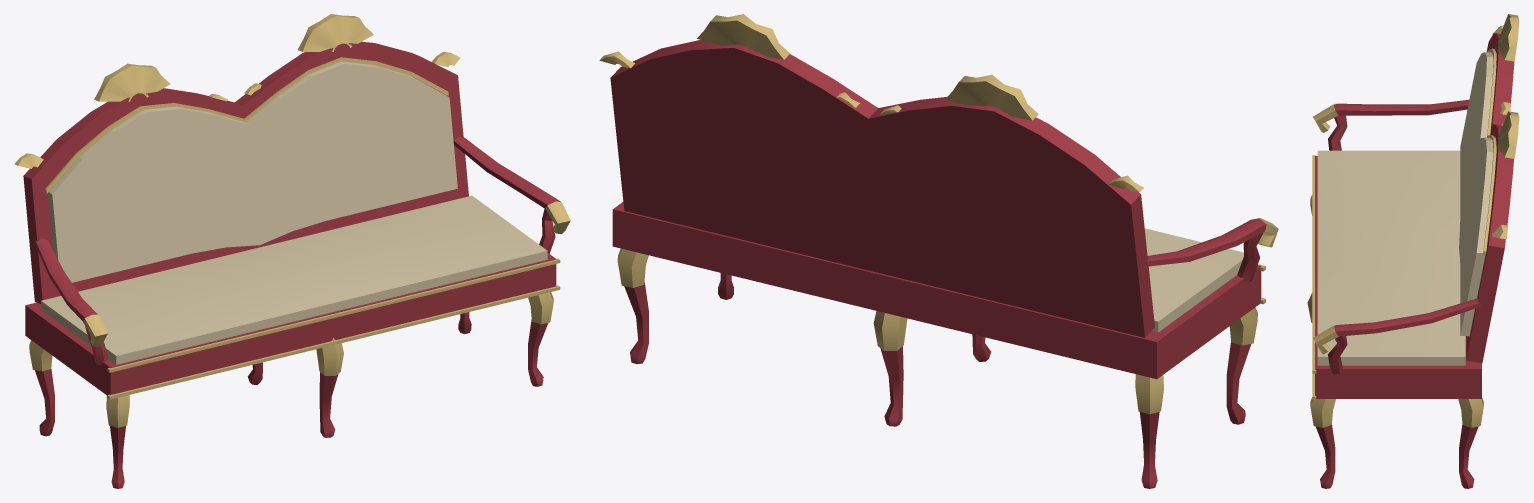
File: sofa.fbx
3 renders of one model, left to right at view 1: azimuth 30°, elevation 25°; view 2: azimuth 150°, elevation 25°; view 3: azimuth 270°, elevation 25°, orthographic. The views are drawn at different scales.
Visible parts, largest first — view 1: respaldo_tapiz, asiento_tapiz, respaldo_marco, asiento_bastidor, moldura_sup, moldura_inf, respaldo_moldura, concha_L, concha_R, brazo_posabrazos_R, brazo_posabrazos_L, pata_FC (+6 smaller); view 2: respaldo_marco, asiento_bastidor, asiento_tapiz, concha_L, concha_R, brazo_posabrazos_L, pata_BC, pata_FL, pata_BR, pata_BL, pata_BC_acanto, pata_BL_acanto (+2 smaller); view 3: asiento_tapiz, respaldo_tapiz, asiento_bastidor, respaldo_marco, brazo_posabrazos_R, brazo_posabrazos_L, respaldo_moldura, pata_FR, concha_R, concha_L, pata_BR, moldura_sup (+6 smaller).
Part boxes in pixels (x1,y1,x2,y2): respaldo_tapiz: [47, 61, 457, 282]; asiento_tapiz: [41, 195, 547, 364]; respaldo_marco: [23, 41, 468, 303]; asiento_bastidor: [25, 253, 556, 395]; moldura_sup: [107, 258, 560, 372]; moldura_inf: [107, 285, 560, 399]; respaldo_moldura: [45, 57, 448, 194]; concha_L: [94, 63, 170, 101]; concha_R: [297, 14, 373, 51]; brazo_posabrazos_R: [453, 137, 560, 208]; brazo_posabrazos_L: [35, 238, 97, 321]; pata_FC: [319, 372, 338, 437]; respaldo_marco: [610, 40, 1154, 337]; asiento_bastidor: [612, 202, 1261, 379]; asiento_tapiz: [1144, 228, 1243, 332]; concha_L: [945, 74, 1038, 120]; concha_R: [697, 14, 789, 59]; brazo_posabrazos_L: [1146, 218, 1267, 266]; pata_BC: [880, 346, 903, 426]; pata_FL: [1226, 342, 1251, 424]; pata_BR: [624, 282, 648, 364]; pata_BL: [1139, 412, 1159, 488]; pata_BC_acanto: [873, 311, 907, 350]; pata_BL_acanto: [1135, 374, 1163, 414]; asiento_tapiz: [1317, 150, 1465, 365]; respaldo_tapiz: [1459, 52, 1493, 336]; asiento_bastidor: [1315, 156, 1481, 398]; respaldo_marco: [1466, 33, 1514, 363]; brazo_posabrazos_R: [1334, 298, 1480, 336]; brazo_posabrazos_L: [1334, 99, 1469, 115]; respaldo_moldura: [1483, 48, 1496, 255]; pata_FR: [1315, 424, 1335, 488]; concha_R: [1497, 111, 1519, 158]; concha_L: [1497, 14, 1519, 61]; pata_BR: [1459, 424, 1478, 488]; moldura_sup: [1312, 155, 1316, 373].
Size of the model in its own units: 197 by 129 by 77.33.
